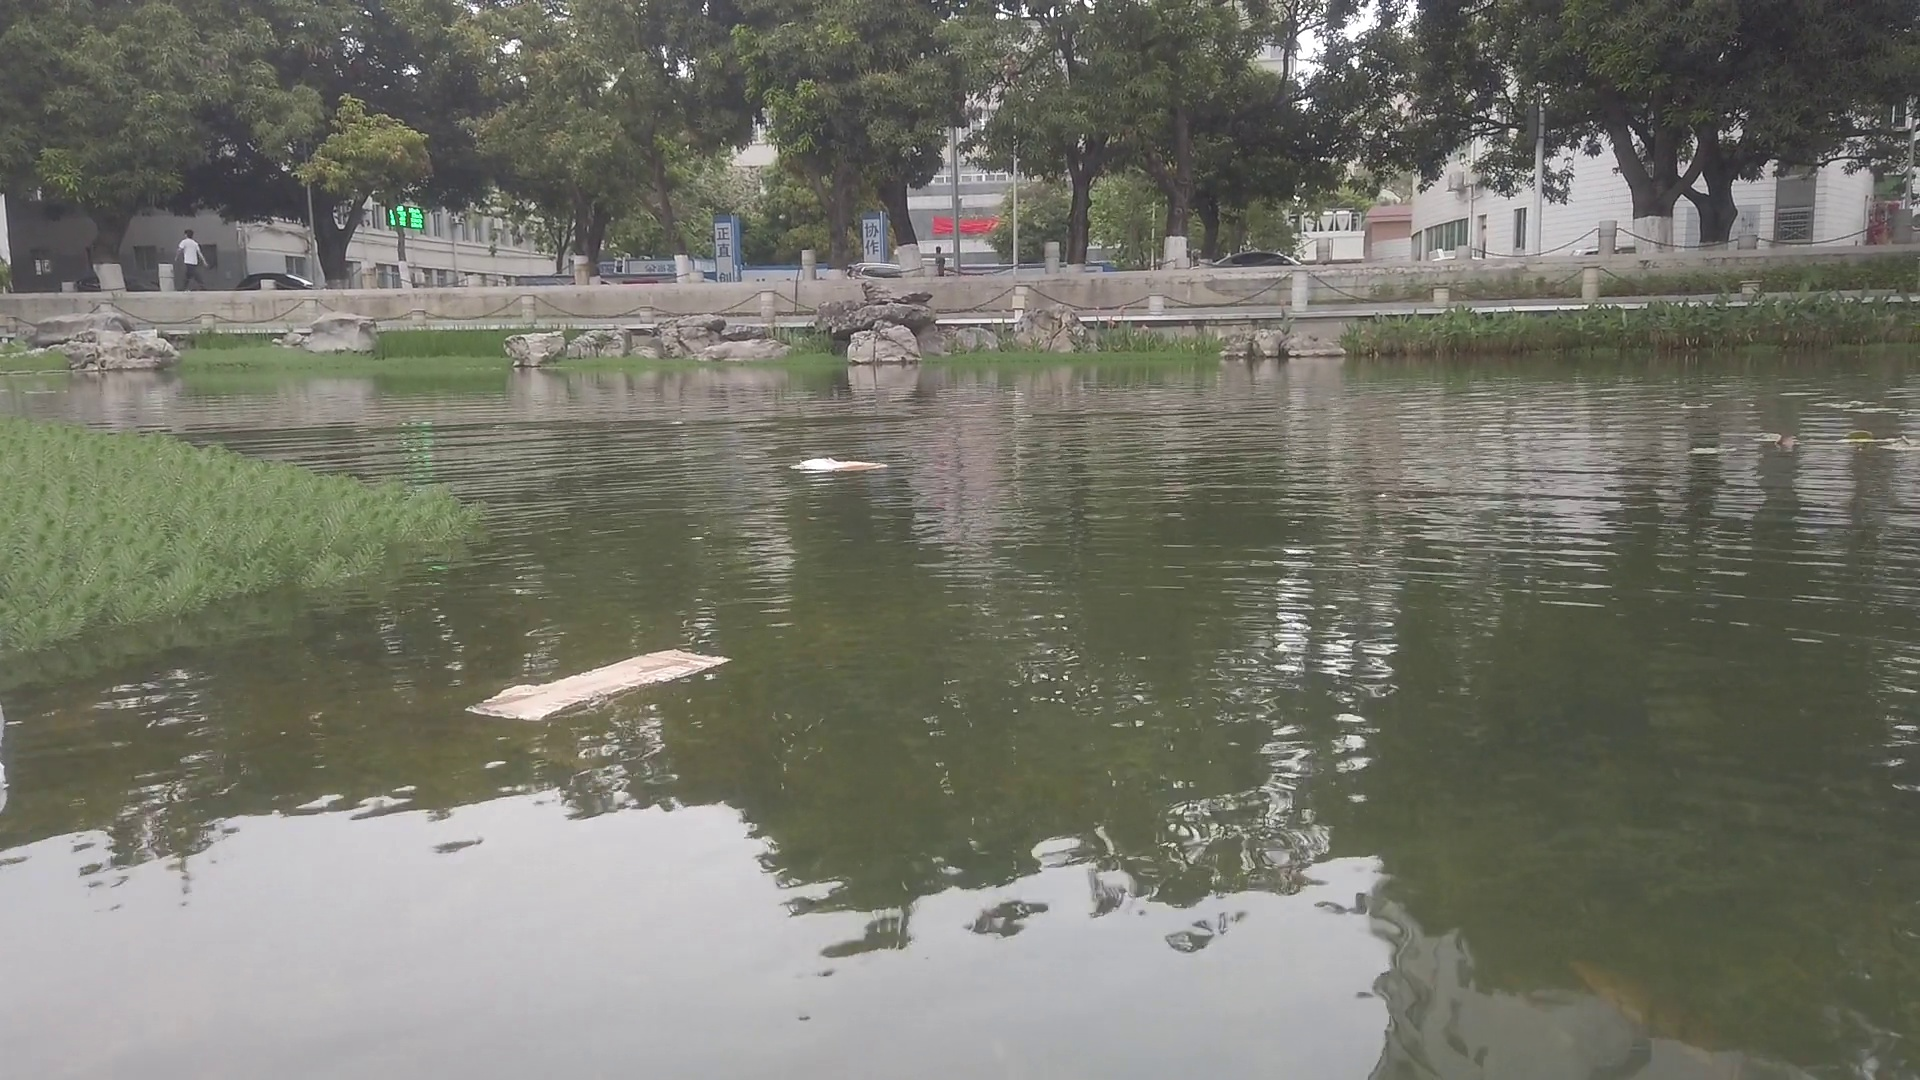paper: (469, 647, 723, 713), (795, 458, 887, 469)
